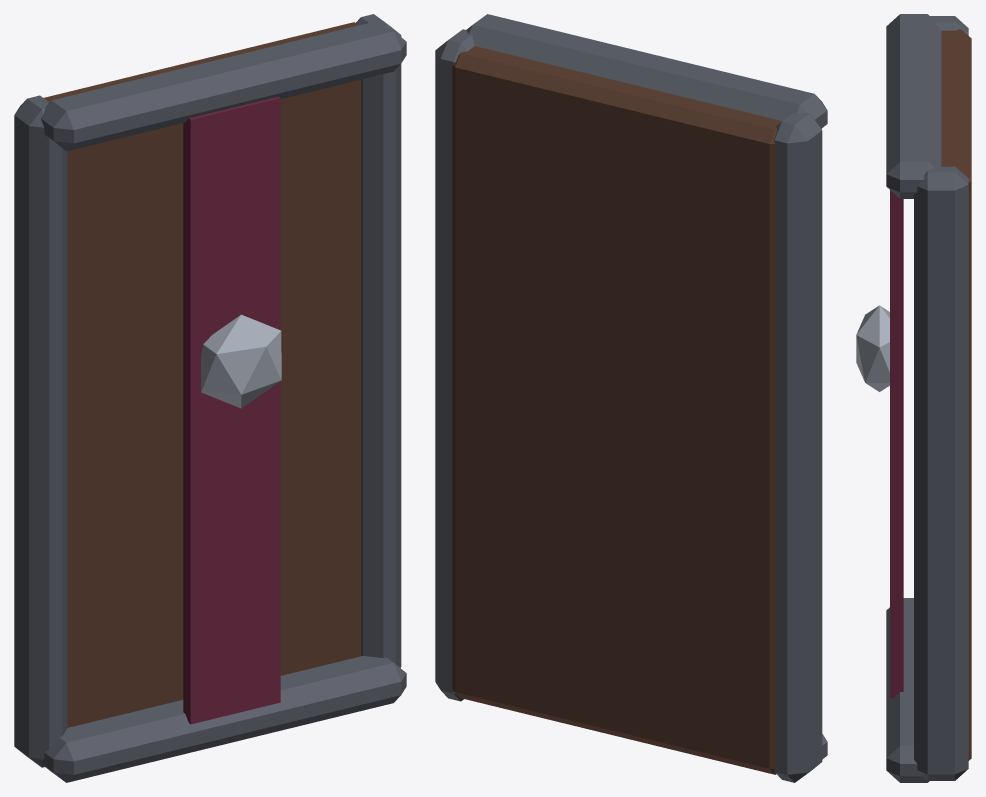
The model's file is TowerShield.fbx.
The picture shows the model from 3 angles, left to right: view 1: azimuth 30°, elevation 25°; view 2: azimuth 150°, elevation 25°; view 3: azimuth 270°, elevation 25°; orthographic projection. The views are drawn at different scales.
Visible parts, largest first — view 1: TowerShield__hand_L; view 2: TowerShield__hand_L; view 3: TowerShield__hand_L.
Part boxes in pixels (bbox=[...]): TowerShield__hand_L: bbox=[14, 14, 406, 782]; TowerShield__hand_L: bbox=[435, 14, 827, 782]; TowerShield__hand_L: bbox=[856, 14, 971, 782].
Bounding box in the file's own units: 0.58 × 1 × 0.1684.
